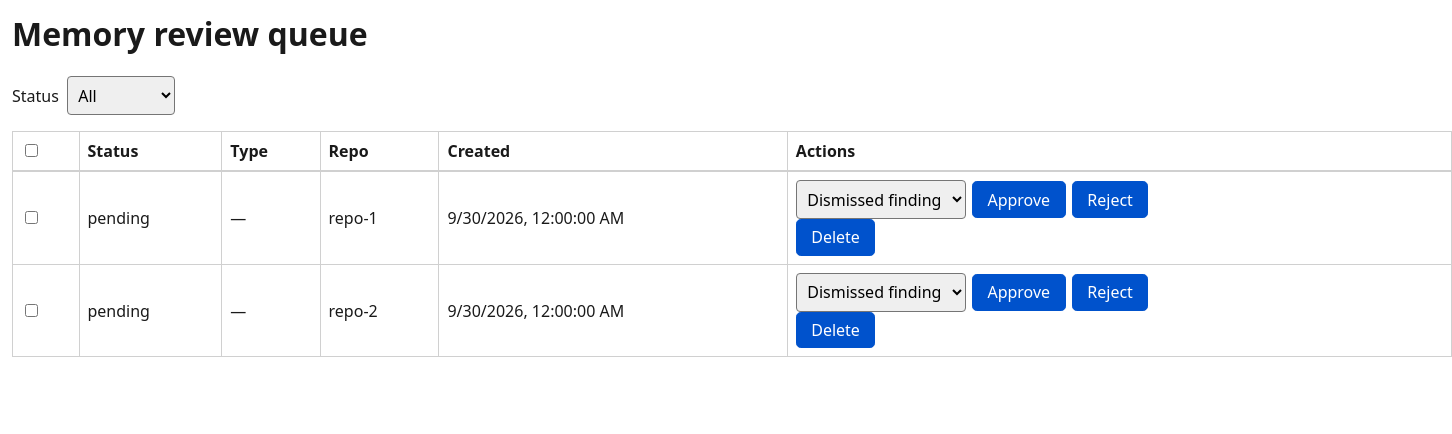
Test case: MemoryQueueScreen › Admin: selecting multiple pending entries and bulk-approving sends every selected id with the chosen classification
Check: the text "repo-1" is shown, box 320,172 -> 439,264
Step 1. Click the checkbox named "select entry entry-1" → (32,218), box 25,211 -> 38,224
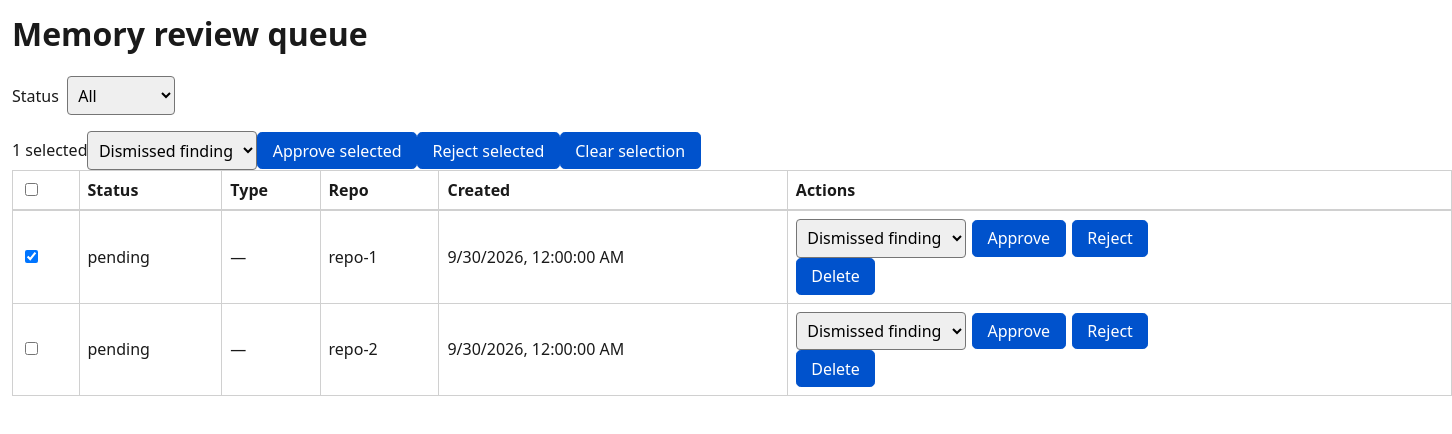
Step 2. Click the checkbox named "select entry entry-2" → (32,349), box 25,342 -> 38,355
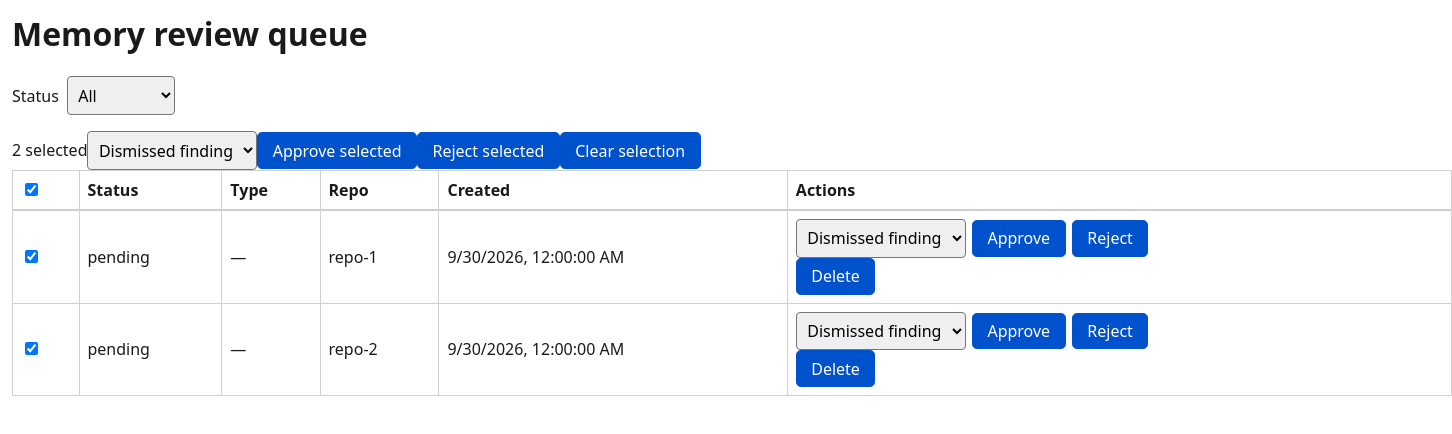
Check: the text "2 selected" is shown, box 12,140 -> 88,162
Step 3. Click the button "Approve selected" → (337,151), box 257,132 -> 417,169
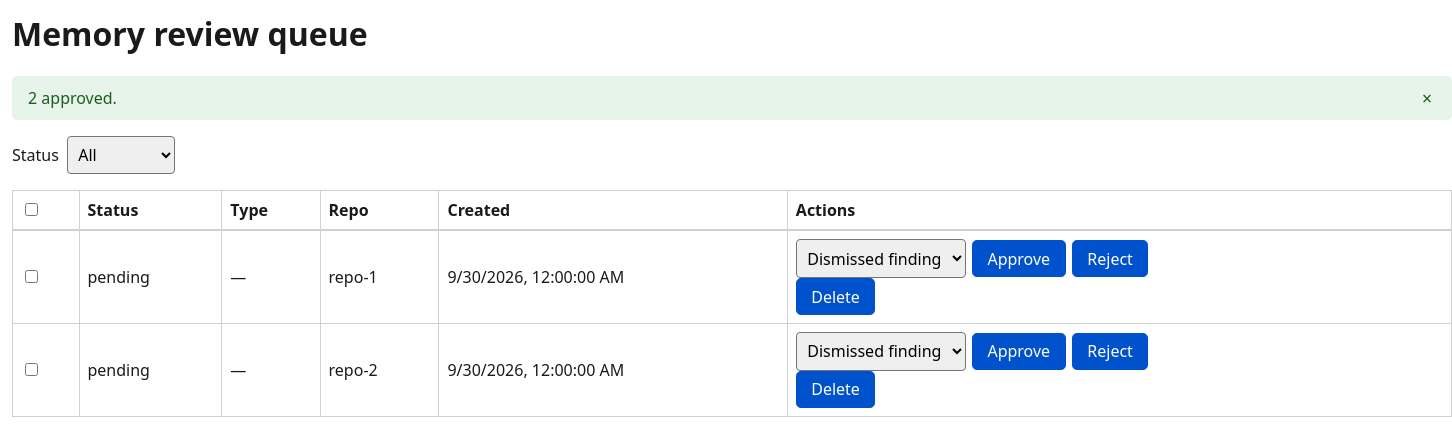
Check: the message with test id "notice" shows "2 approved", box 28,87 -> 117,109
Check: the text "selected" is gone
